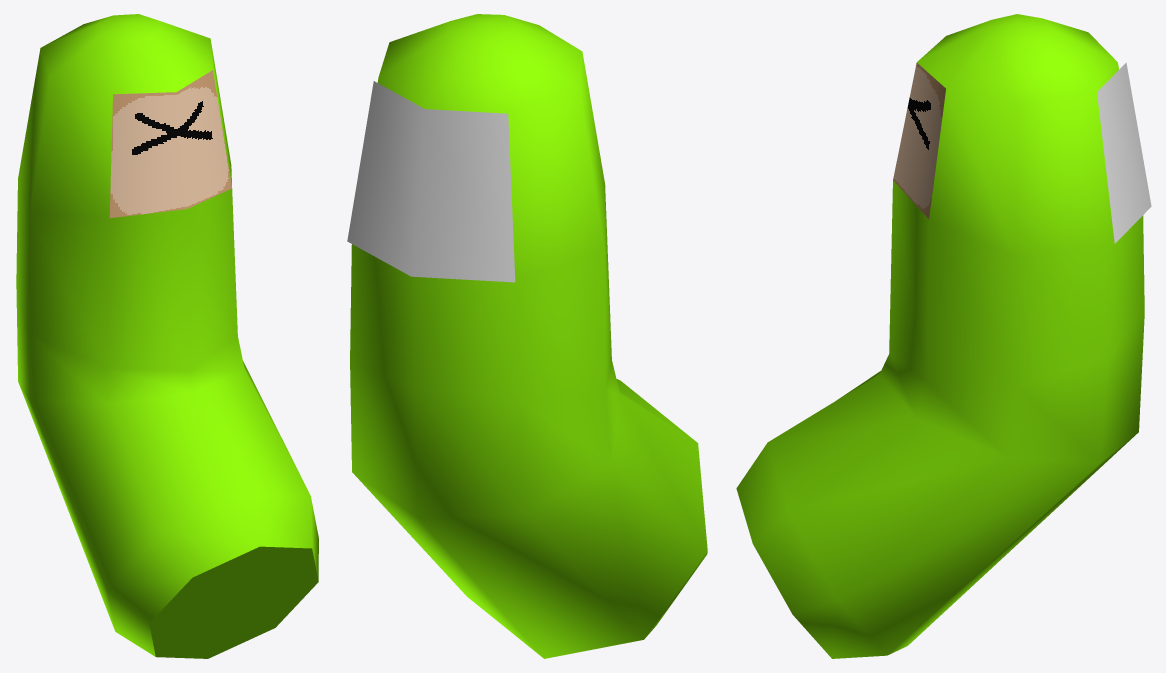
The model's file is OTA_D_10.glb.
The picture shows the model from 3 angles, left to right: view 1: azimuth 30°, elevation 25°; view 2: azimuth 150°, elevation 25°; view 3: azimuth 270°, elevation 25°; orthographic projection. The views are drawn at different scales.
Visible parts, largest first — view 1: FRAME_ROOT; view 2: FRAME_ROOT; view 3: FRAME_ROOT.
Part boxes in pixels (x1,y1,x2,y2): FRAME_ROOT: (16,14,318,658); FRAME_ROOT: (347,14,707,658); FRAME_ROOT: (736,14,1151,658).
Bounding box in the file's own units: 1.28 × 3.35 × 2.01.
3 materials, 3 textured.
